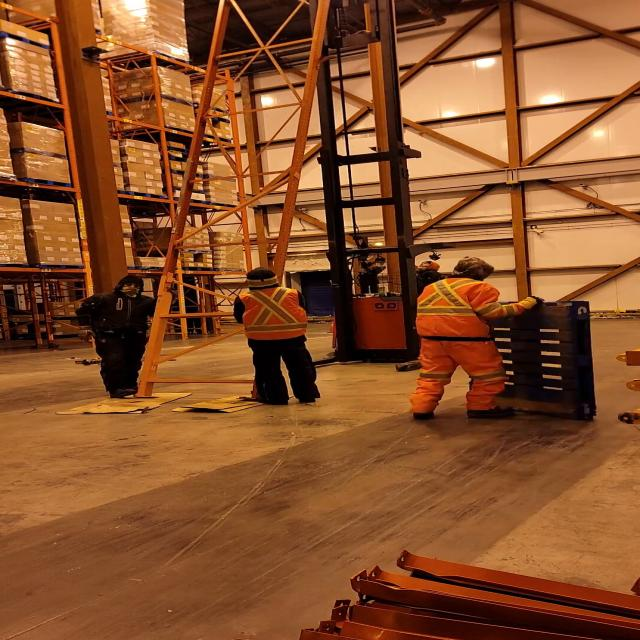forklift: (296, 146, 473, 374)
human: (403, 254, 545, 422), (68, 273, 180, 402), (232, 266, 324, 408), (390, 256, 448, 296)
objectofinterest: (129, 2, 333, 400), (493, 298, 602, 420), (51, 389, 195, 417), (172, 391, 286, 414)
